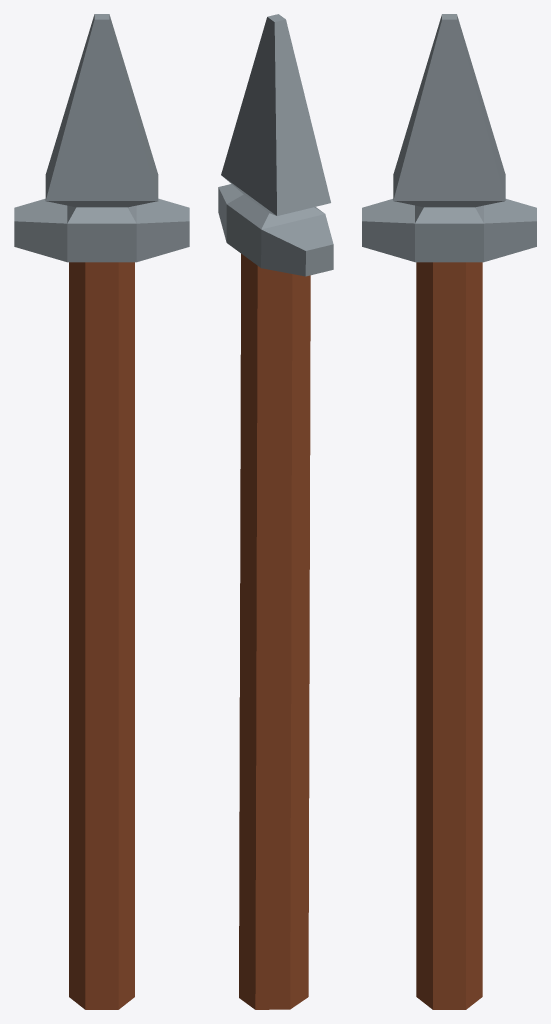
Rendered from Javlin.fbx.
3 views of the same model, side by side, from view 1: azimuth 90°, elevation 25°; view 2: azimuth 210°, elevation 25°; view 3: azimuth 270°, elevation 25° (orthographic).
Parts seen in each view (by area): view 1: BlackSmithShop.001; view 2: BlackSmithShop.001; view 3: BlackSmithShop.001.
Part boxes in pixels (left/top/right/bottom): BlackSmithShop.001: left=14, top=14, right=189, bottom=1009; BlackSmithShop.001: left=218, top=14, right=333, bottom=1009; BlackSmithShop.001: left=362, top=14, right=536, bottom=1009.
Size of the model in its own units: 18.56 by 270 by 43.75.
